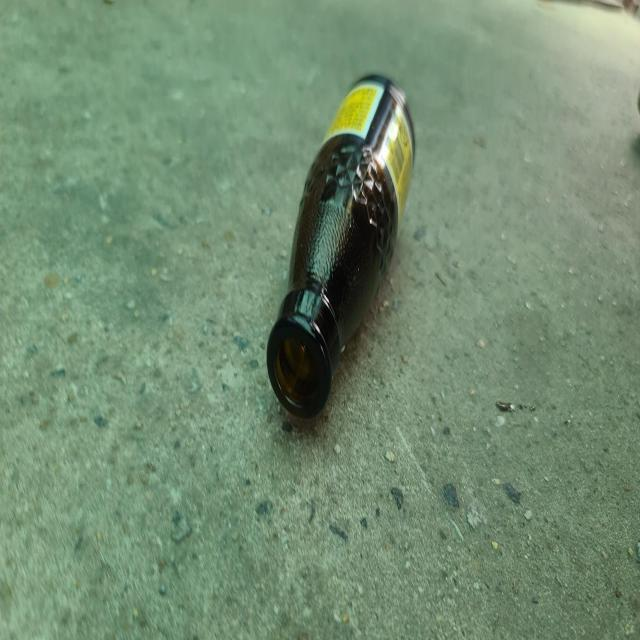glass: (267, 73, 415, 417)
